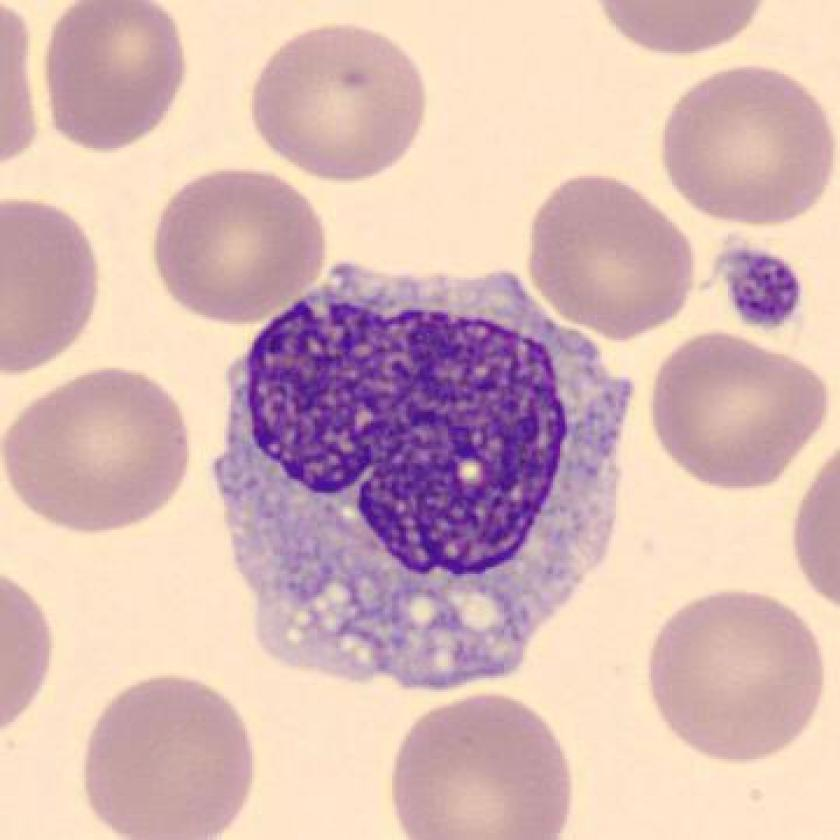monocyte: (195, 247, 659, 705)
